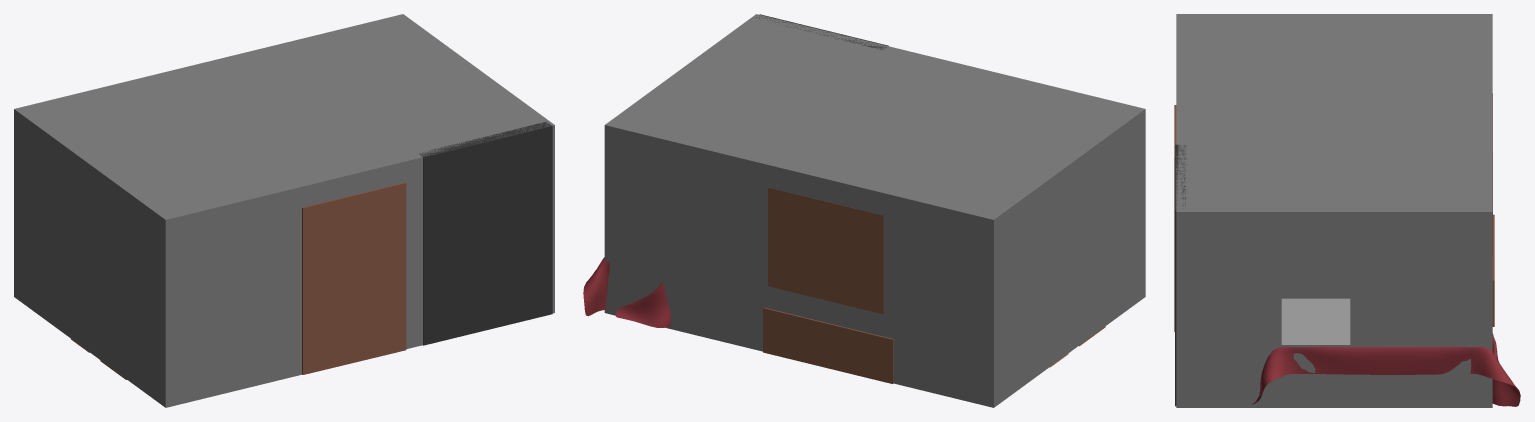
Rendered from TestPuzzleBoxLevel.fbx.
3 views of the same model, side by side, from view 1: azimuth 30°, elevation 25°; view 2: azimuth 150°, elevation 25°; view 3: azimuth 270°, elevation 25° (orthographic). The views are drawn at different scales.
Parts seen in each view (by area): view 1: Room, CarriageDoor, Bookshelf; view 2: Room, Painting, Painting Compartment, Table; view 3: Room, Table, Ball Machine, CarriageDoor.
Part boxes in pixels (x1,y1,x2,y2): Room: [14, 14, 554, 407]; CarriageDoor: [419, 121, 552, 345]; Bookshelf: [302, 182, 406, 374]; Room: [604, 14, 1145, 407]; Painting: [768, 187, 883, 314]; Painting Compartment: [763, 307, 893, 383]; Table: [583, 257, 670, 327]; Room: [1176, 14, 1492, 407]; Table: [1252, 333, 1520, 406]; Ball Machine: [1281, 298, 1350, 344]; CarriageDoor: [1175, 144, 1186, 406].
Bounding box in the file's own units: 679 × 302 × 480.
